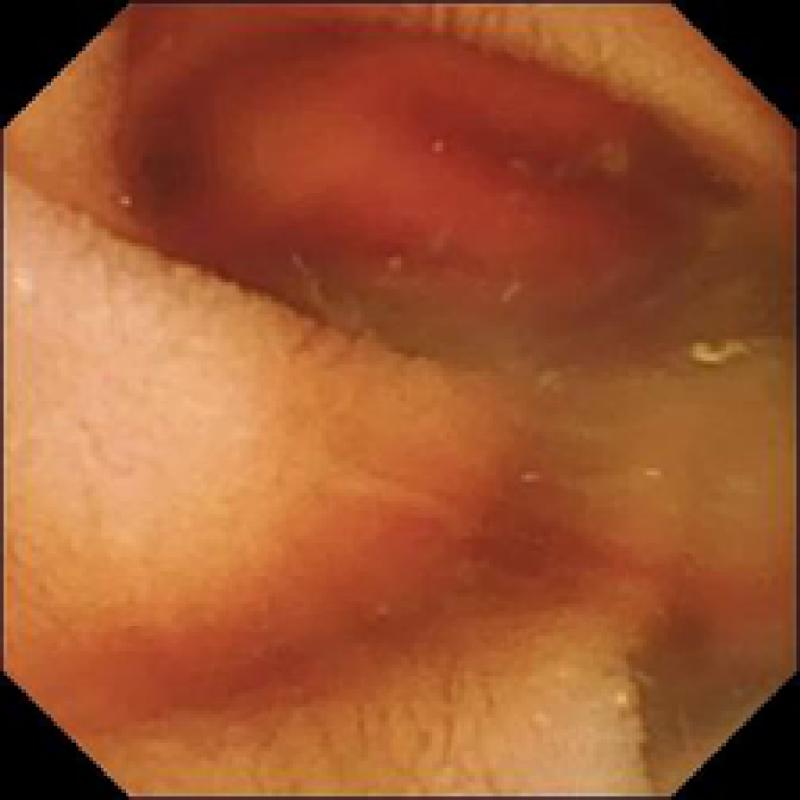bleeding: (122, 22, 707, 282), (123, 486, 598, 705)
